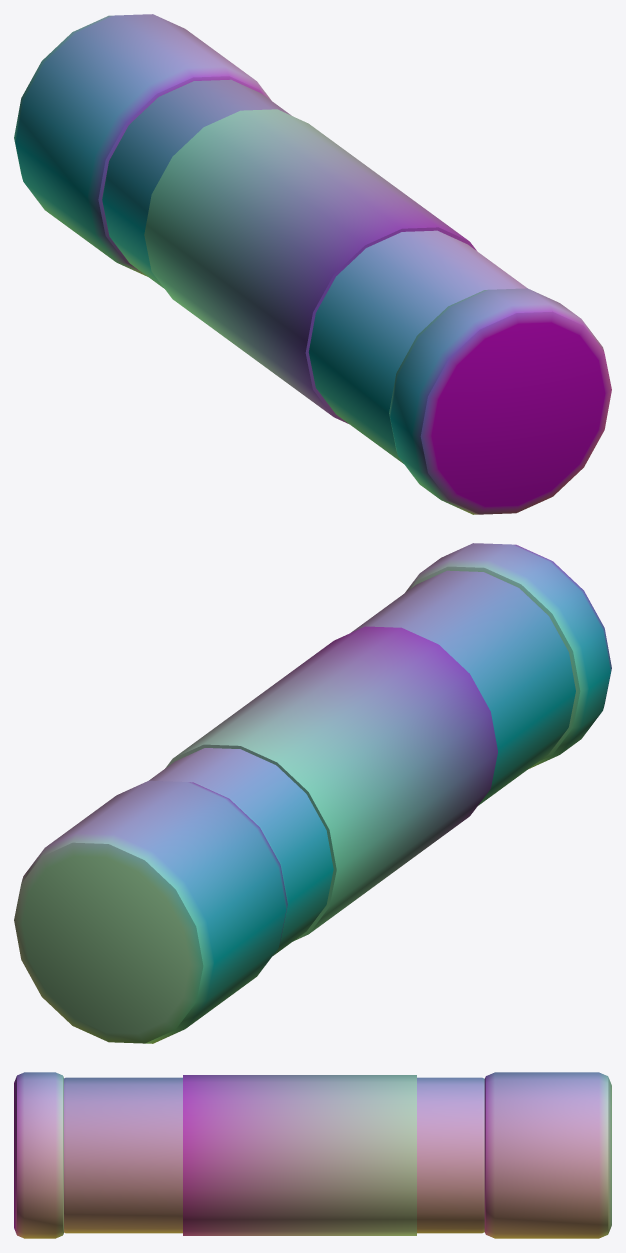
The model's file is env_deco_glue.glb.
The picture shows the model from 3 angles, top to bottom: view 1: azimuth 30°, elevation 25°; view 2: azimuth 150°, elevation 25°; view 3: azimuth 270°, elevation 25°; orthographic projection. The views are drawn at different scales.
Parts seen in each view (by area): view 1: env_deco_glue_mesh; view 2: env_deco_glue_mesh; view 3: env_deco_glue_mesh.
Part boxes in pixels (x1,y1,x2,y2): env_deco_glue_mesh: (14, 14, 611, 514); env_deco_glue_mesh: (14, 543, 611, 1043); env_deco_glue_mesh: (14, 1072, 611, 1238).
Size of the model in its own units: 0.128 by 0.128 by 0.46.
